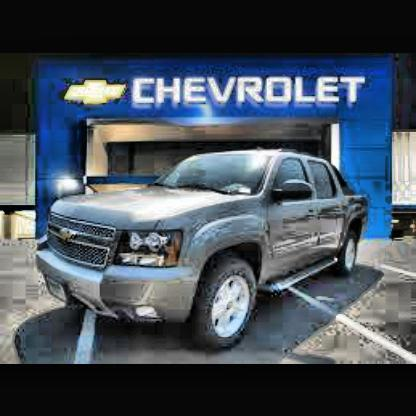Chevrolet Avalanche Crew Cab 2012: (38, 145, 373, 352)
